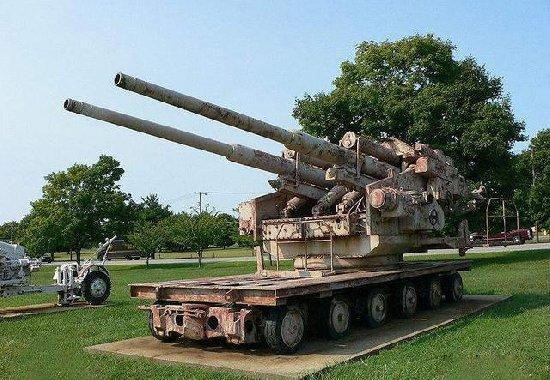MIL_SPG: (64, 73, 482, 352)
